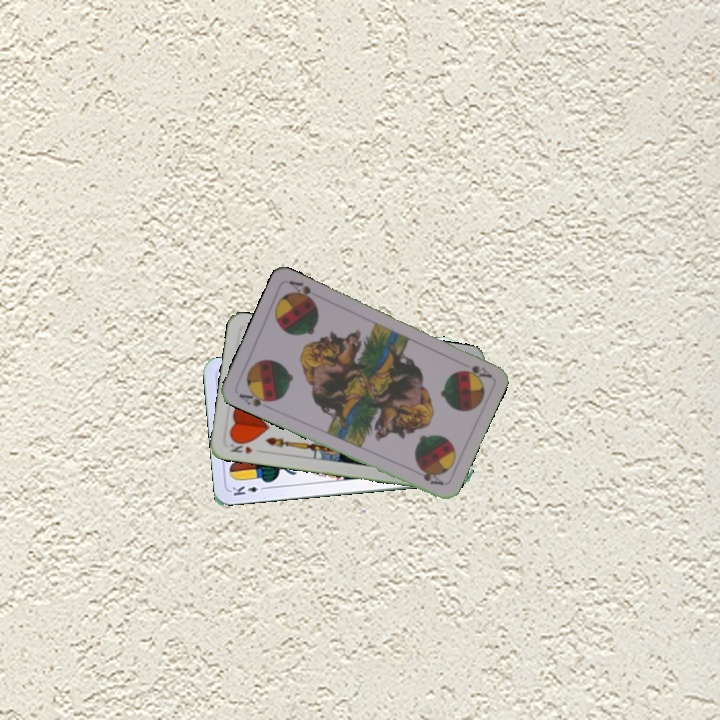EK: (228, 482, 269, 498)
HK: (226, 436, 255, 456)
SA: (235, 387, 275, 409), (460, 361, 494, 380)
